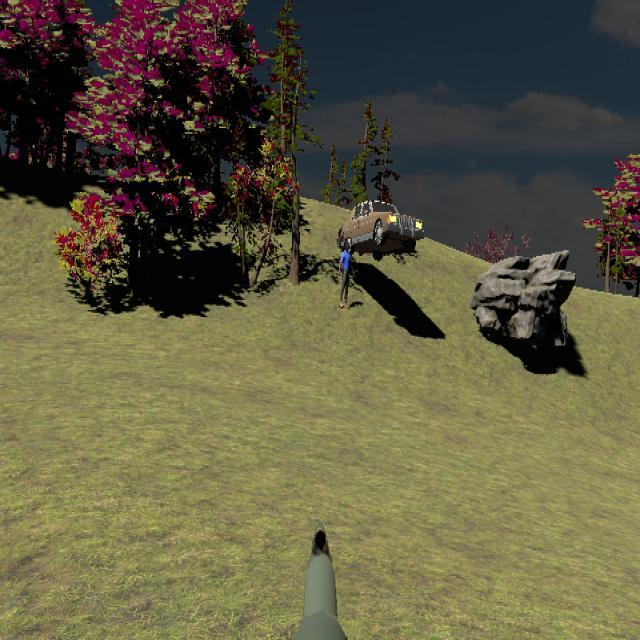Human: (339, 239, 355, 309)
car: (337, 199, 424, 261)
